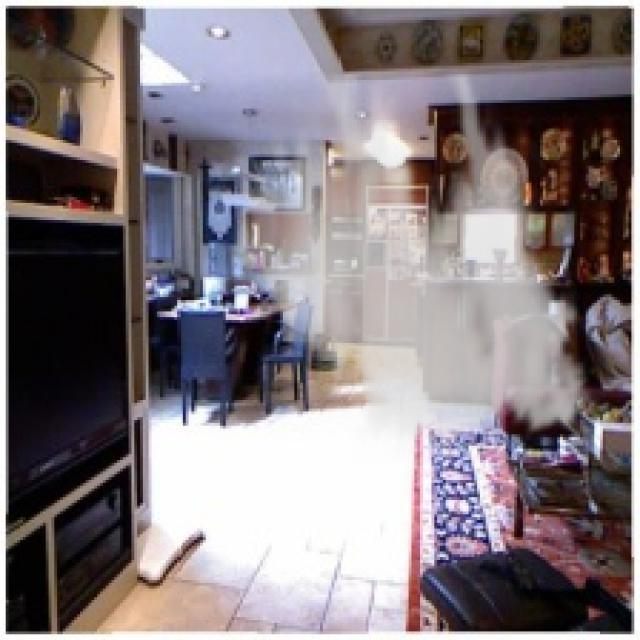Smoke: (223, 71, 606, 463)
